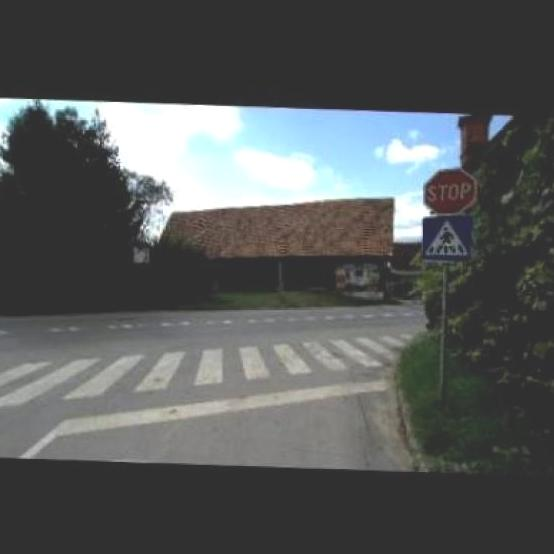stop_sign: (421, 158, 478, 213)
